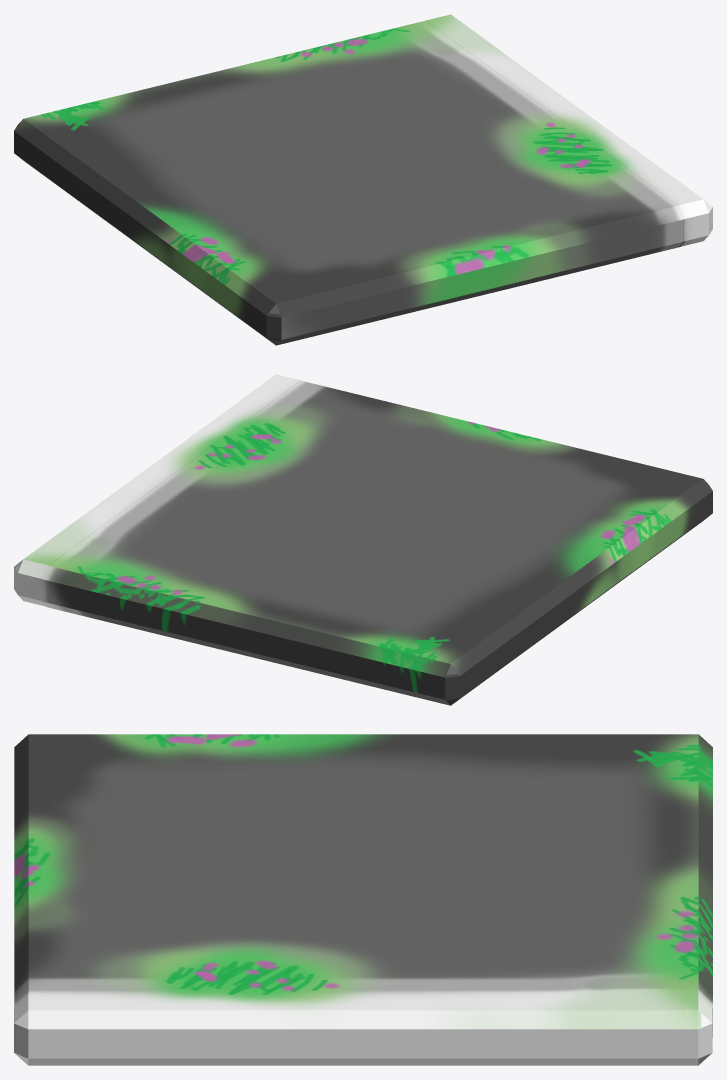
The model's file is calcadatextura4.fbx.
3 renders of one model, top to bottom at view 1: azimuth 30°, elevation 25°; view 2: azimuth 150°, elevation 25°; view 3: azimuth 270°, elevation 25°, orthographic. The views are drawn at different scales.
Parts seen in each view (by area): view 1: Cube; view 2: Cube; view 3: Cube.
Part boxes in pixels (<box>): Cube: <box>14,14,712,345</box>; Cube: <box>14,374,712,705</box>; Cube: <box>14,734,712,1065</box>.
Size of the model in its own units: 474 by 42.74 by 485.
